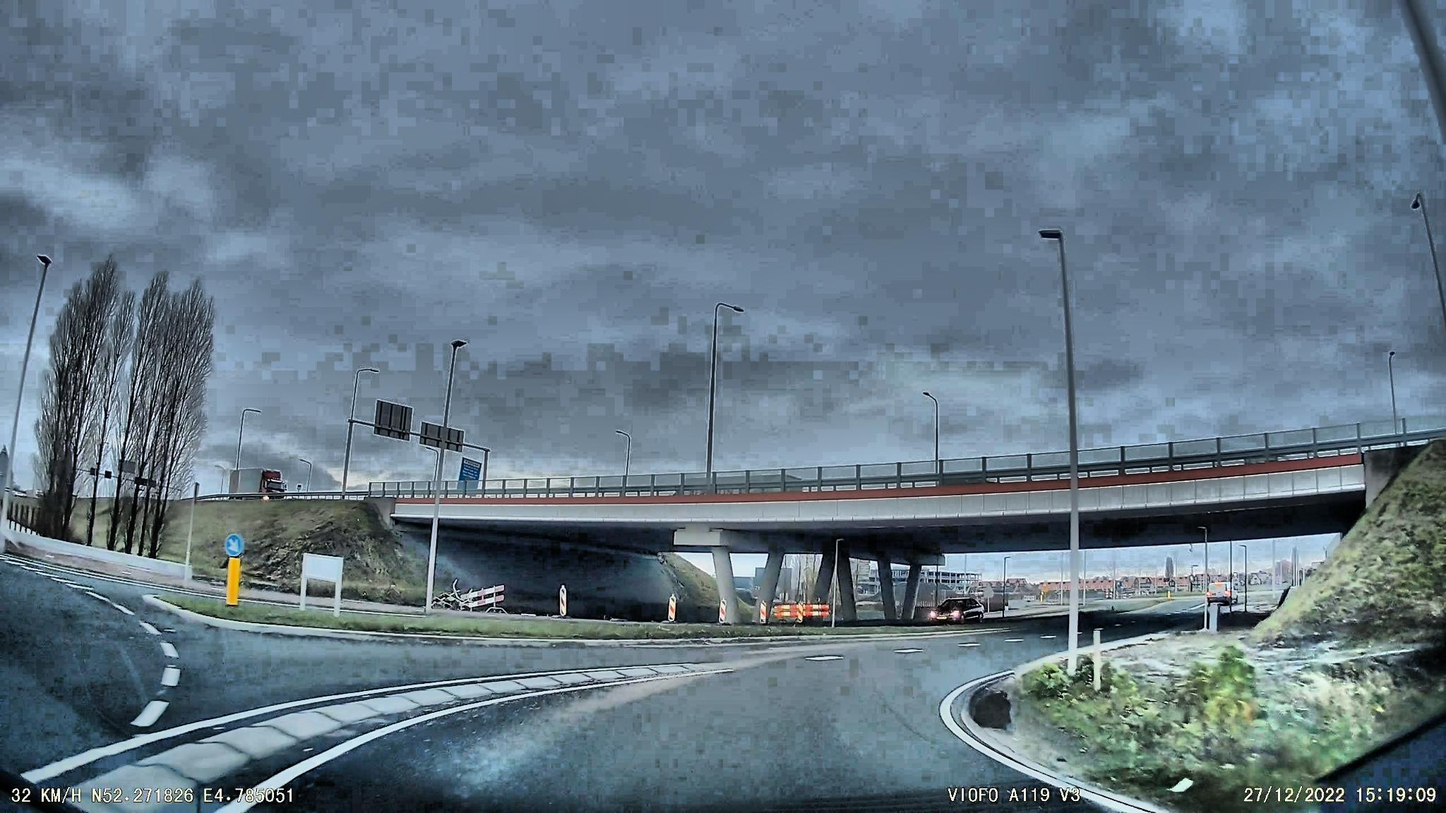Roads: (0, 561, 1148, 813)
